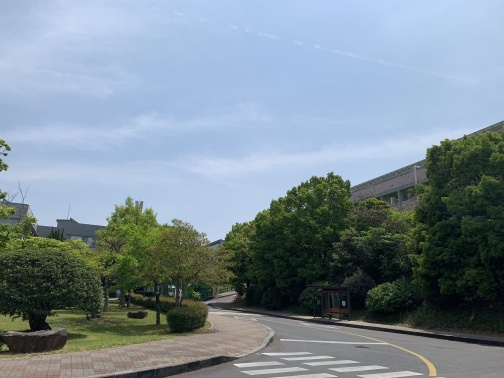College Of Education: (326, 118, 504, 218)
